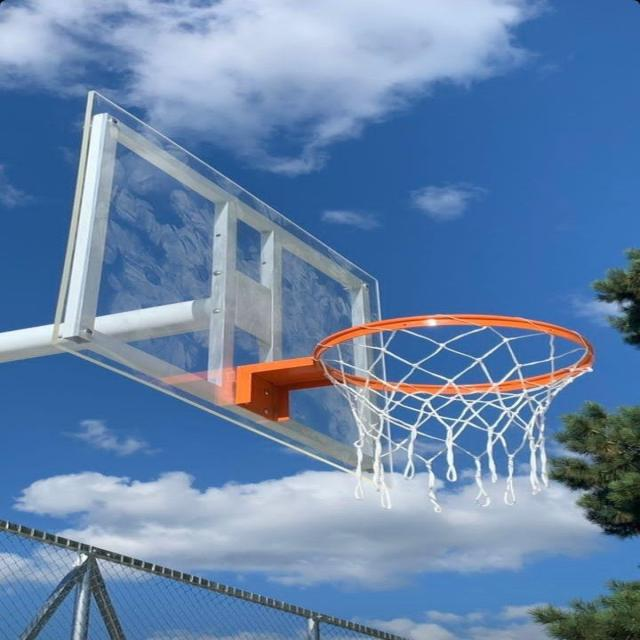hoop: (252, 306, 623, 502)
